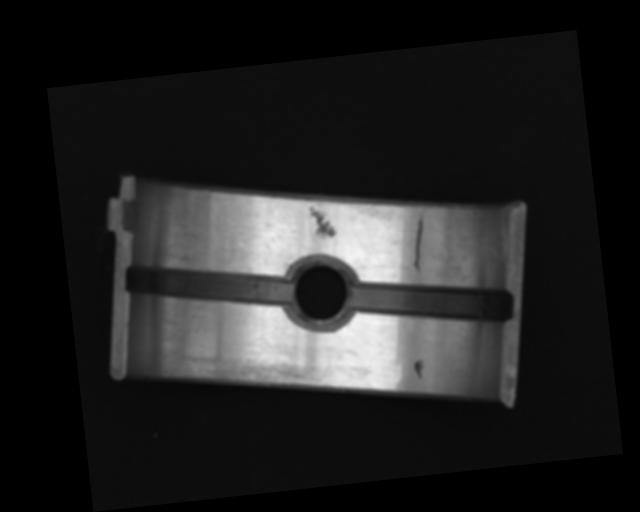bruise: (306, 204, 338, 241), (413, 358, 426, 381)
gap: (123, 250, 295, 322), (350, 269, 513, 336)
hole: (282, 255, 360, 337)
nick: (408, 211, 429, 273)
scratch: (182, 341, 326, 401)
